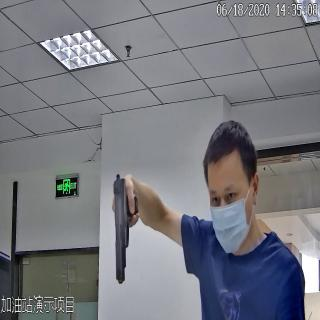gun: (107, 174, 139, 281)
